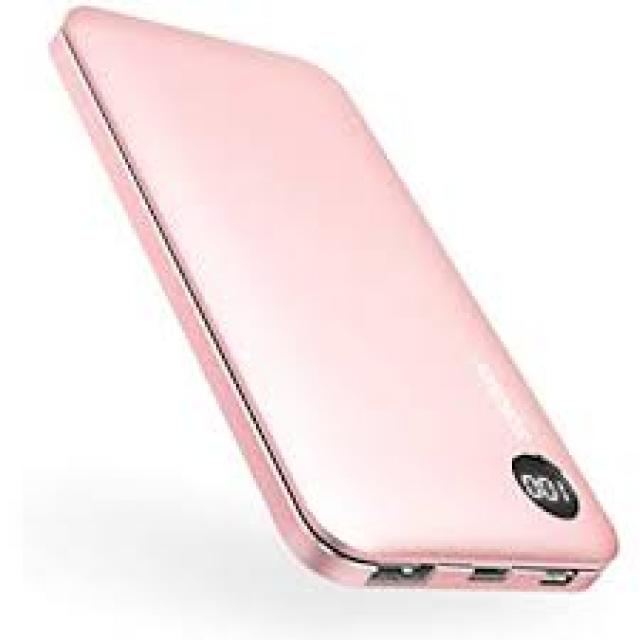non-organic waste: (50, 10, 620, 594)
